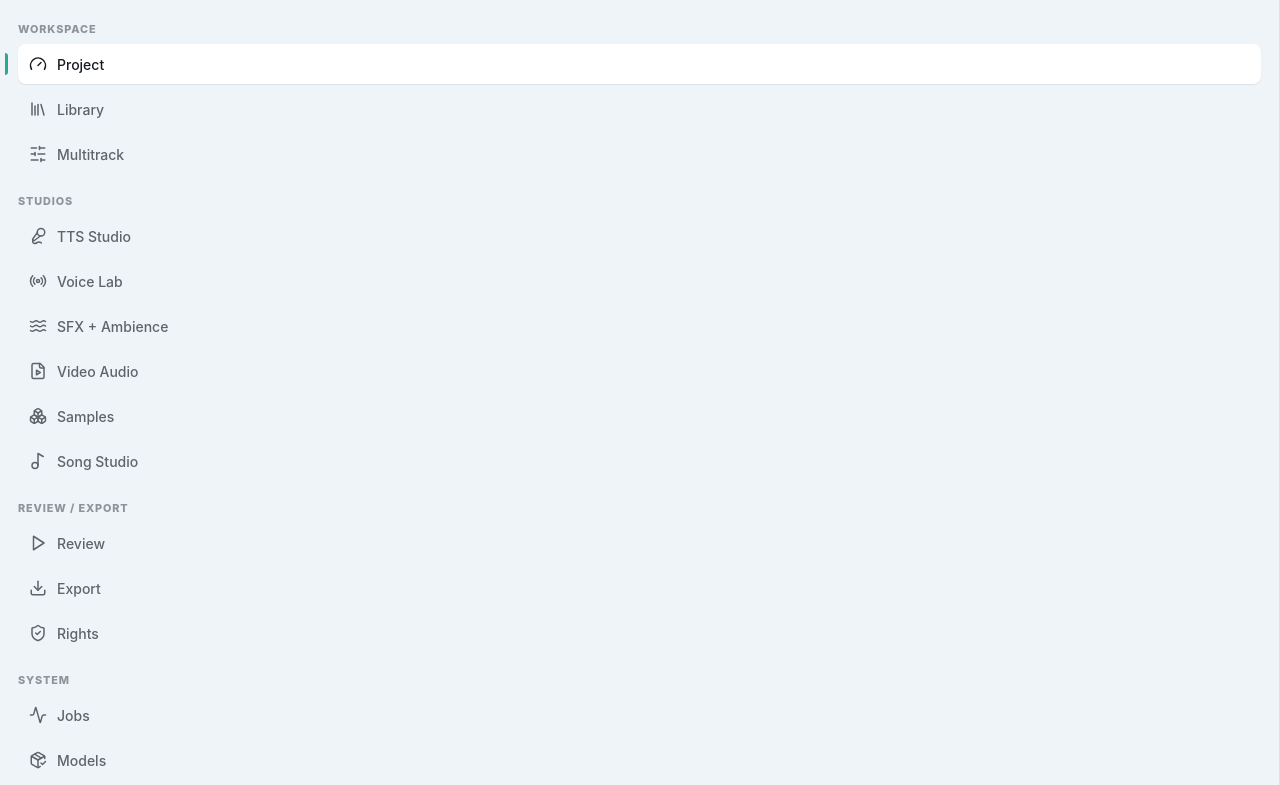
it: App › wires Voice/Video/Song generation and demotes genuinely inert controls
The image size is (1280, 785).
Click the button "Voice Lab". click: (90, 281)
box: [18,261,1261,301]
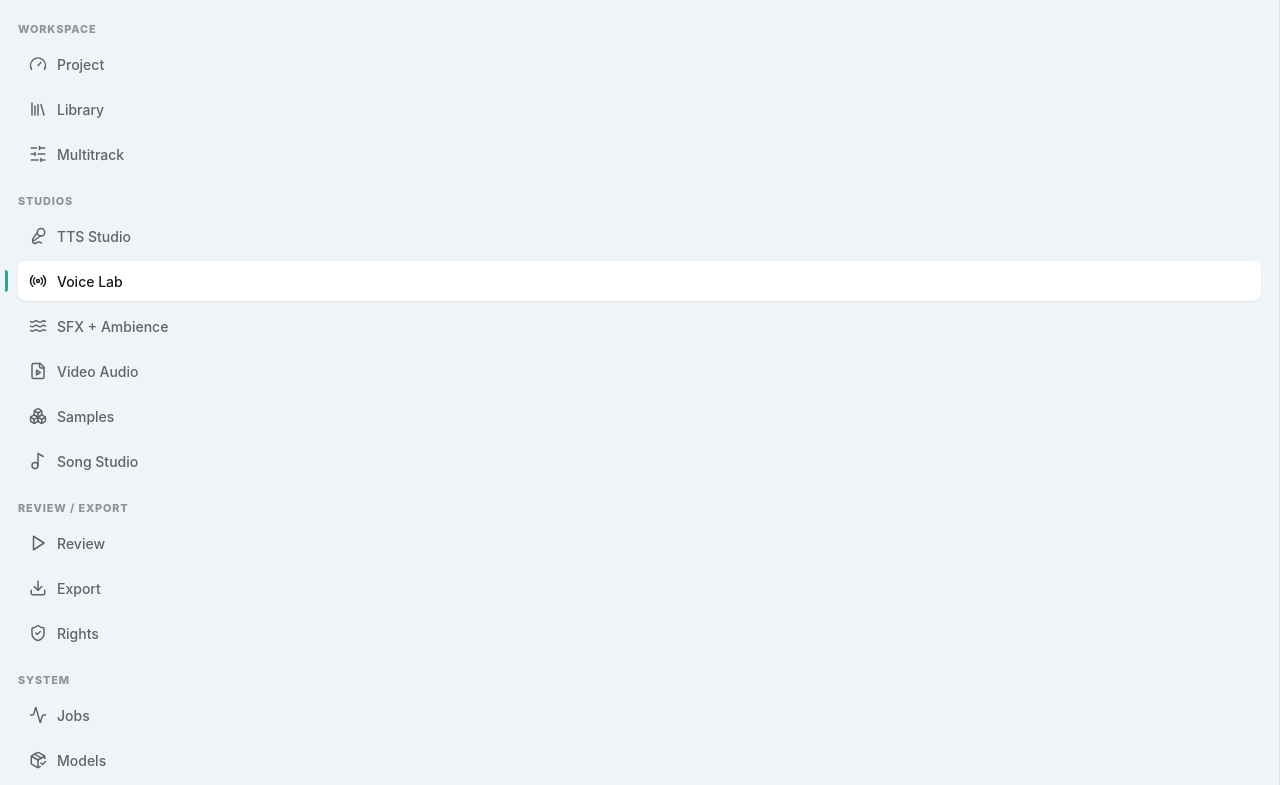
Click the button "Video Audio". click: (98, 371)
box: [18,351,1261,391]
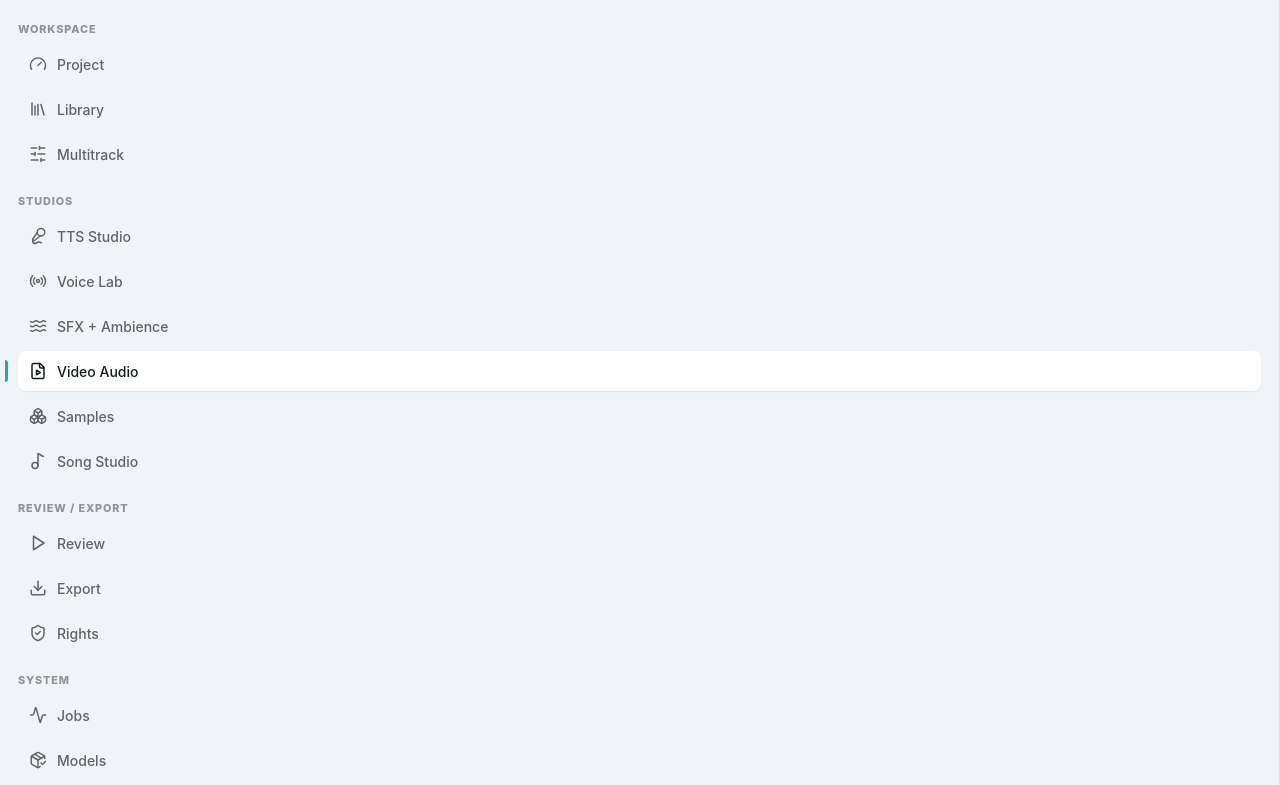
Click the button "Song Studio". click: (98, 461)
box: [18,441,1261,481]
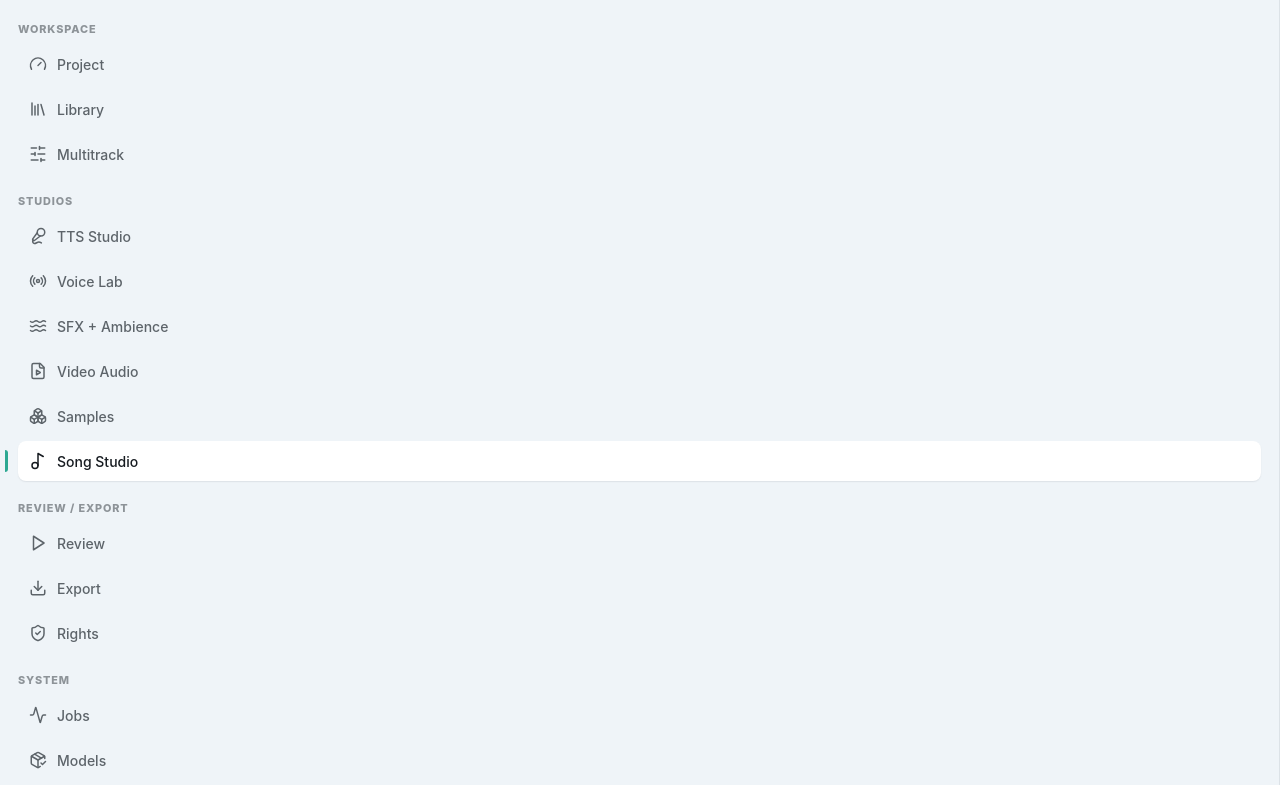
Click the button "Multitrack". click: (91, 154)
box: [18,134,1261,174]
(page scrolled)
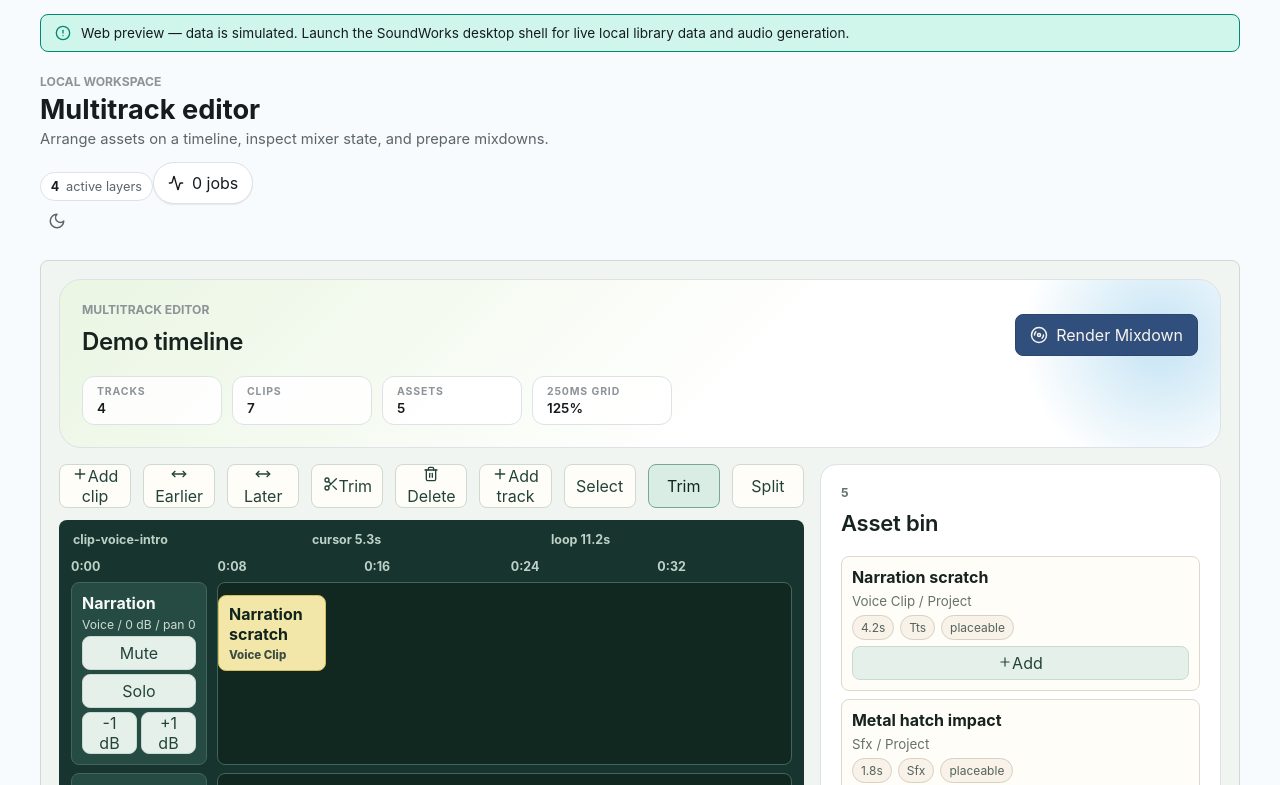
Check: the heading "Demo timeline" is shown, box [82,327,243,356]
Check: the button "Render Mixdown" is enabled, box [1015,314,1198,356]
